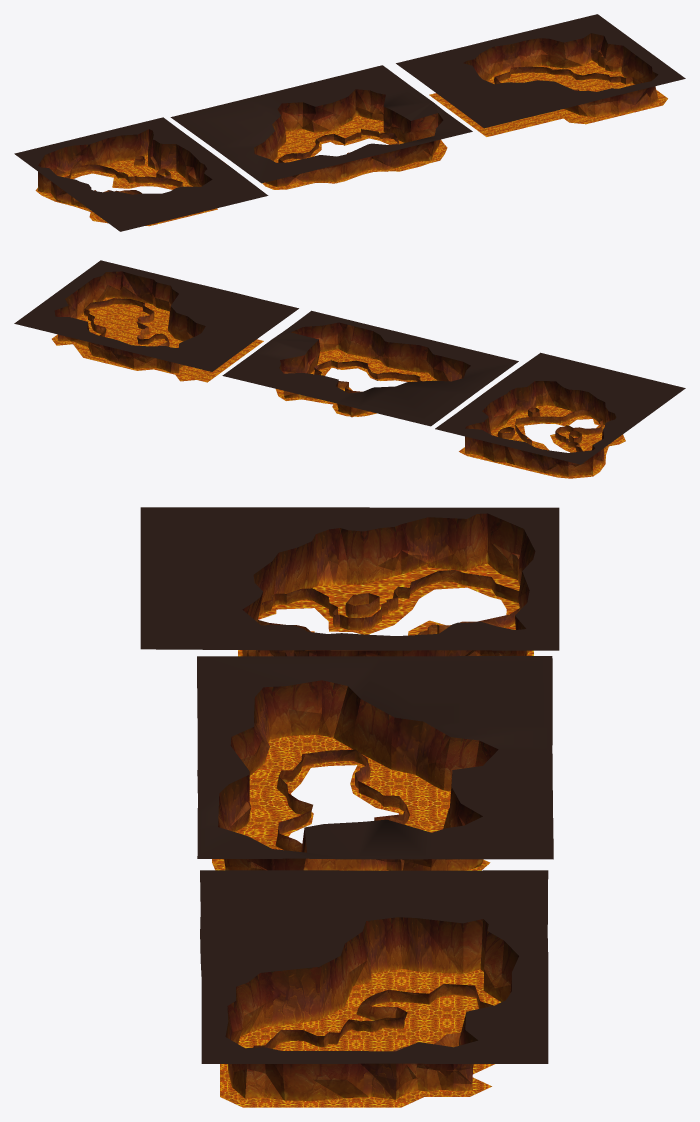
Rendered from mesh_weiqiang.FBX.
3 renders of one model, top to bottom at view 1: azimuth 30°, elevation 25°; view 2: azimuth 150°, elevation 25°; view 3: azimuth 270°, elevation 25°, orthographic. The views are drawn at different scales.
Parts seen in each view (by area): view 1: mesh_weiqiang; view 2: mesh_weiqiang; view 3: mesh_weiqiang.
Boxes of the visible parts, x1,y1,x2,y2 form: mesh_weiqiang: (14, 14, 685, 231); mesh_weiqiang: (14, 260, 685, 478); mesh_weiqiang: (140, 507, 559, 1107).
Bounding box in the file's own units: 17427 × 780 × 5542.
1 material, 1 textured.
